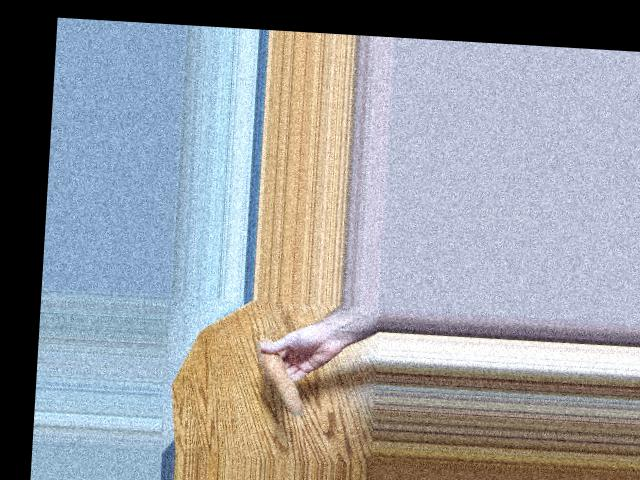sweet_potato: (252, 335, 307, 415)
